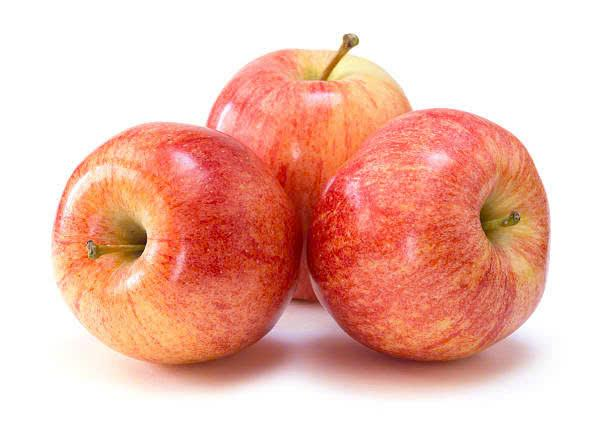apple: (35, 109, 307, 375), (305, 105, 562, 371)
